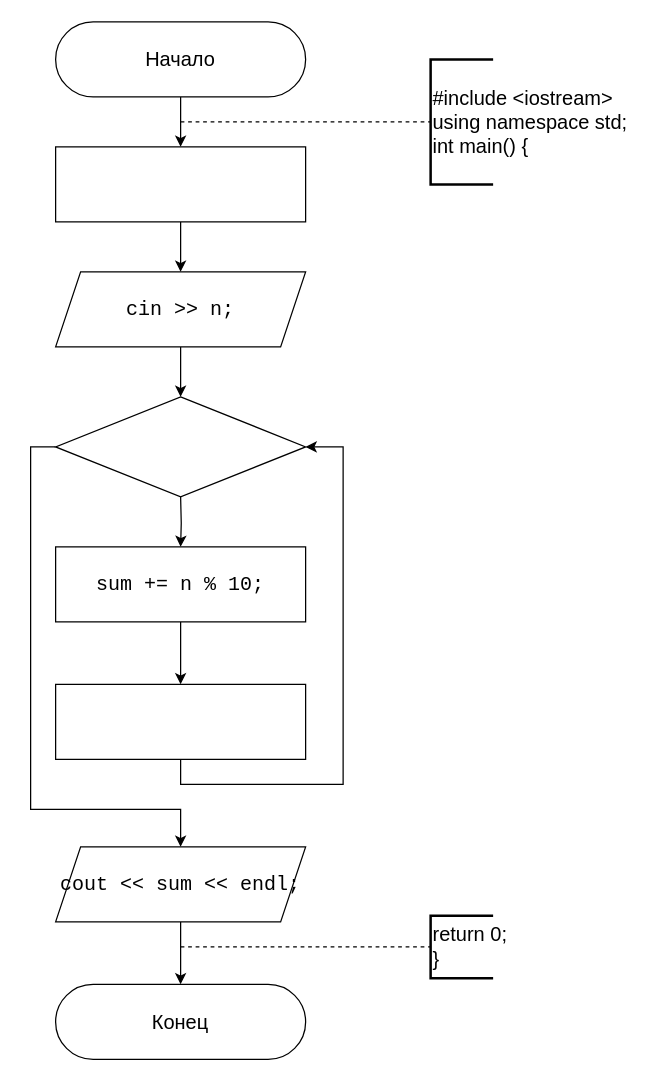
Some shapes in this 650 by 1081 pixel diagram are drawn without their labels. The centre of each missing label's shape, as x and y in pixels:
int n , sum = 0 ;: point 180,184
n /= 10 ;: point 180,721
while ( n > 0 ): point 180,446
